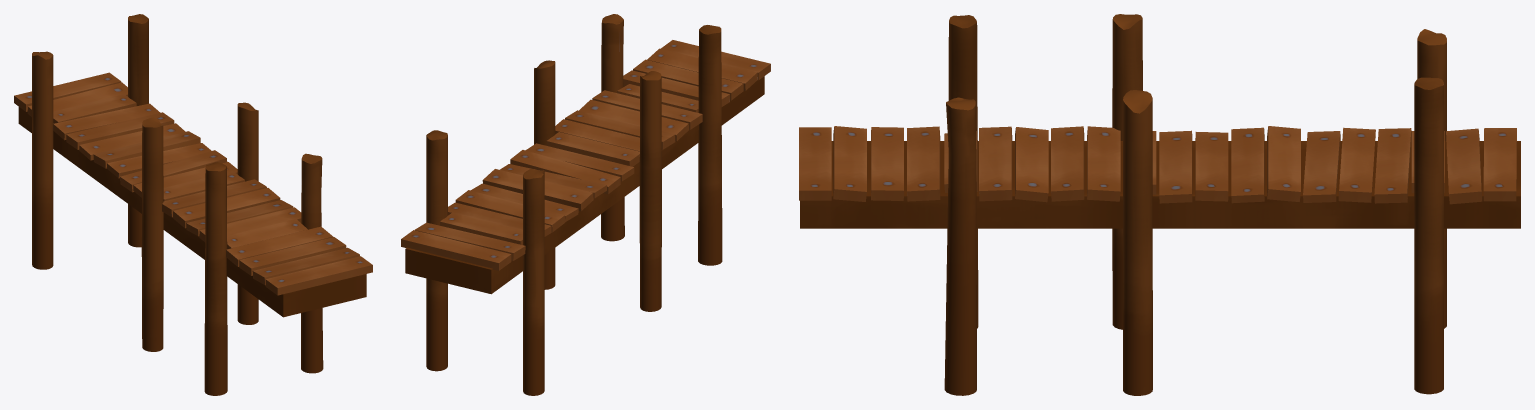
File: Fdockpart.fbx
The picture shows the model from 3 angles, left to right: view 1: azimuth 30°, elevation 25°; view 2: azimuth 150°, elevation 25°; view 3: azimuth 270°, elevation 25°; orthographic projection. The views are drawn at different scales.
Parts seen in each view (by area): view 1: DockModular; view 2: DockModular; view 3: DockModular.
Boxes of the visible parts, x1=… form: DockModular: x1=14, y1=14, x2=372, y2=395; DockModular: x1=401, y1=14, x2=770, y2=395; DockModular: x1=799, y1=14, x2=1520, y2=395.
Size of the model in its own units: 281 by 518 by 1101.
